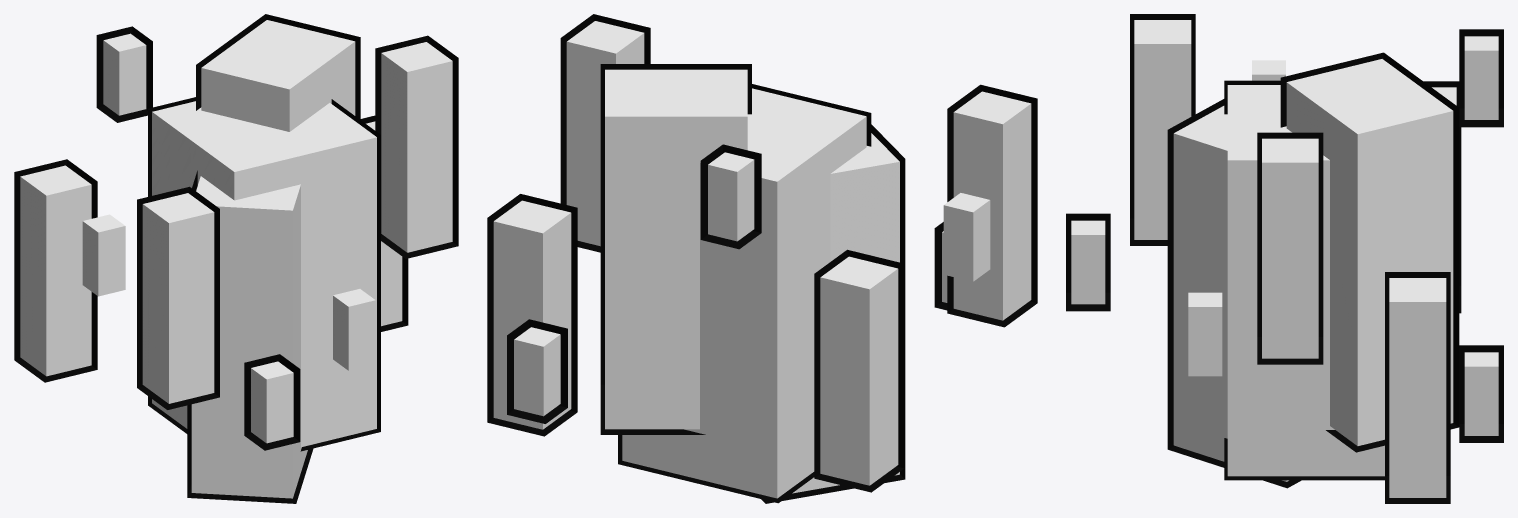
The model's file is featured.glb.
3 renders of one model, left to right at view 1: azimuth 30°, elevation 25°; view 2: azimuth 150°, elevation 25°; view 3: azimuth 270°, elevation 25°, orthographic. The views are drawn at different scales.
Visible parts, largest first — view 1: cube_outline (×20); view 2: cube_outline (×20); view 3: cube_outline (×21).
Boxes of the visible parts, x1,y1,x2,y2 form: cube_outline (×20): (14,14,458,503); cube_outline (×20): (487,14,1037,503); cube_outline (×21): (1066,14,1503,503).
Bounding box in the file's own units: 2.73 × 2.58 × 2.58.
1 material, 1 textured.
